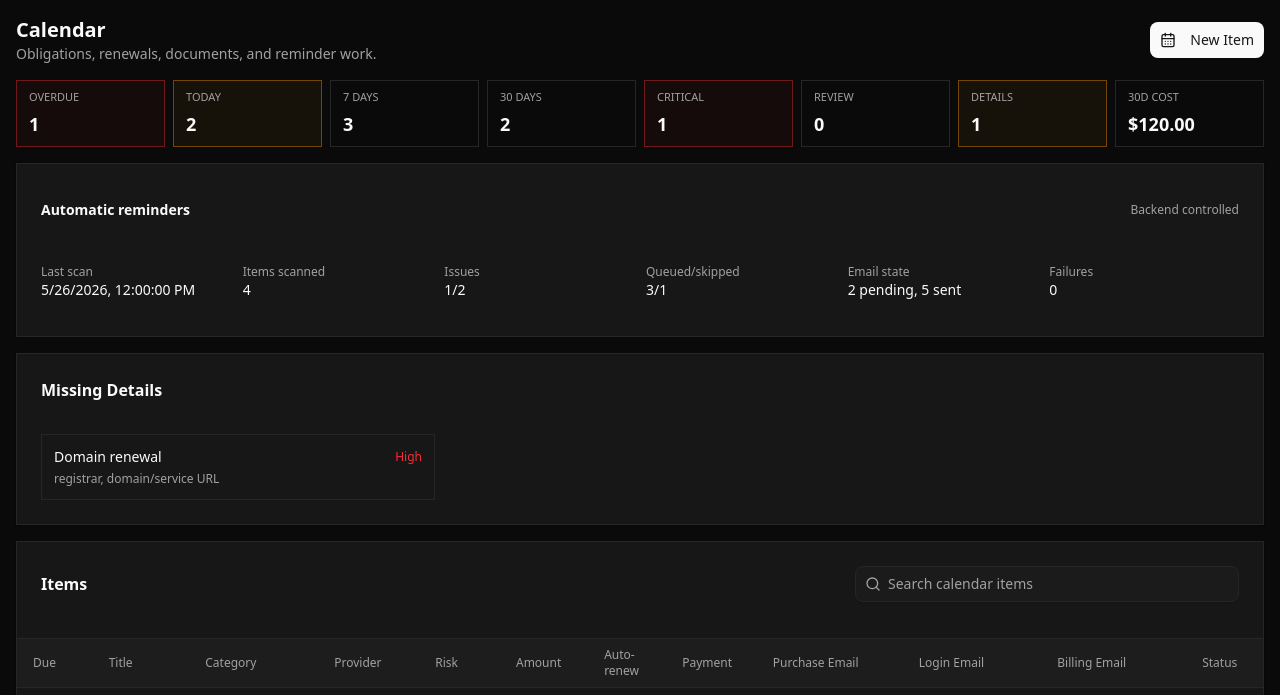
Test case: Calendar › opens an item from a missing details card
The image size is (1280, 695).
Click the button with test id "calendar-missing-details-item-1". click: (108, 456)
box: [41,434,435,500]
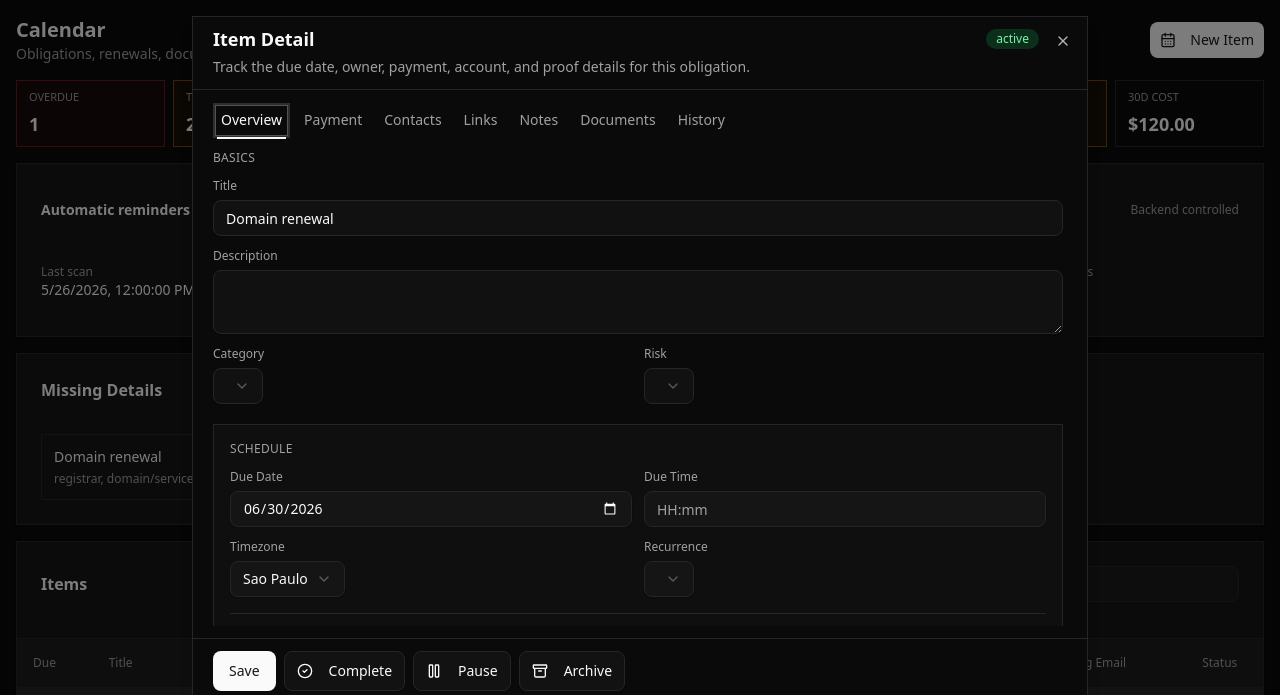
Expected: the text "Domain renewal" is shown, [54,446,162,466]
Expected: the text "Item Detail" is shown, [213,30,314,48]
